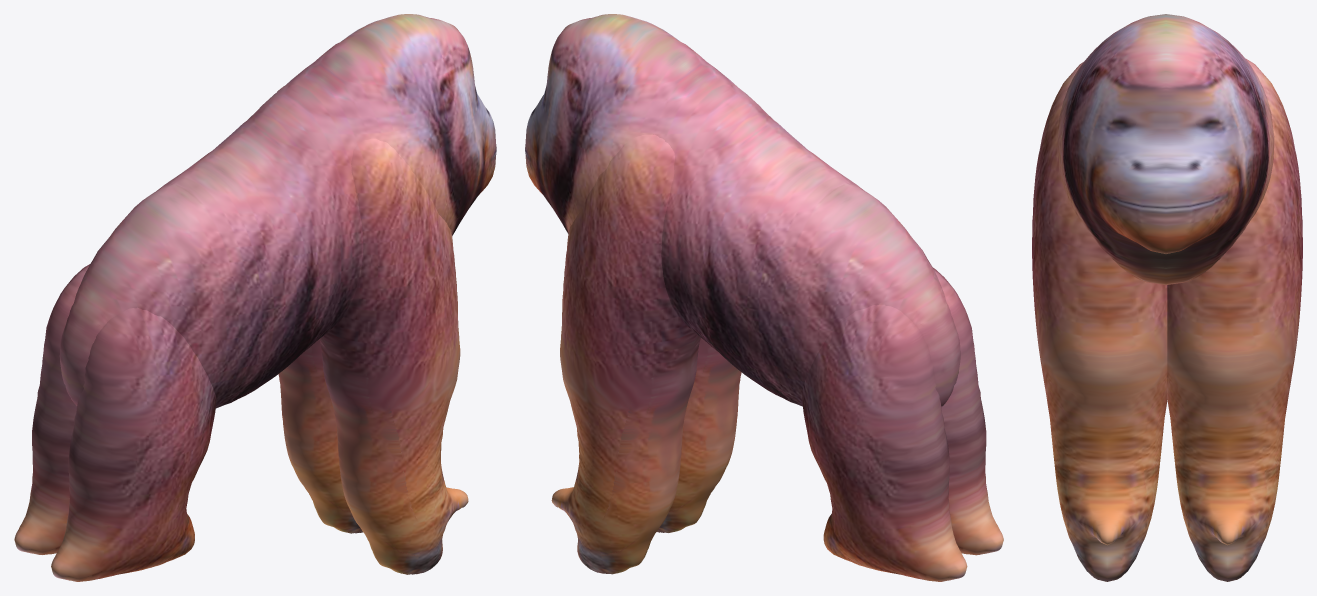
The model's file is sumatran-orangutan.glb.
The picture shows the model from 3 angles, left to right: view 1: azimuth 30°, elevation 25°; view 2: azimuth 150°, elevation 25°; view 3: azimuth 270°, elevation 25°; orthographic projection. The views are drawn at different scales.
Parts seen in each view (by area): view 1: mm_frame (59); view 2: mm_frame (59); view 3: mm_frame (59).
Boxes of the visible parts, bbox=[...] form: mm_frame (59): bbox=[14, 14, 496, 581]; mm_frame (59): bbox=[525, 14, 1003, 581]; mm_frame (59): bbox=[1032, 14, 1302, 581].
Bounding box in the file's own units: 5.12 × 5.69 × 2.47.
1 material, 1 textured.
